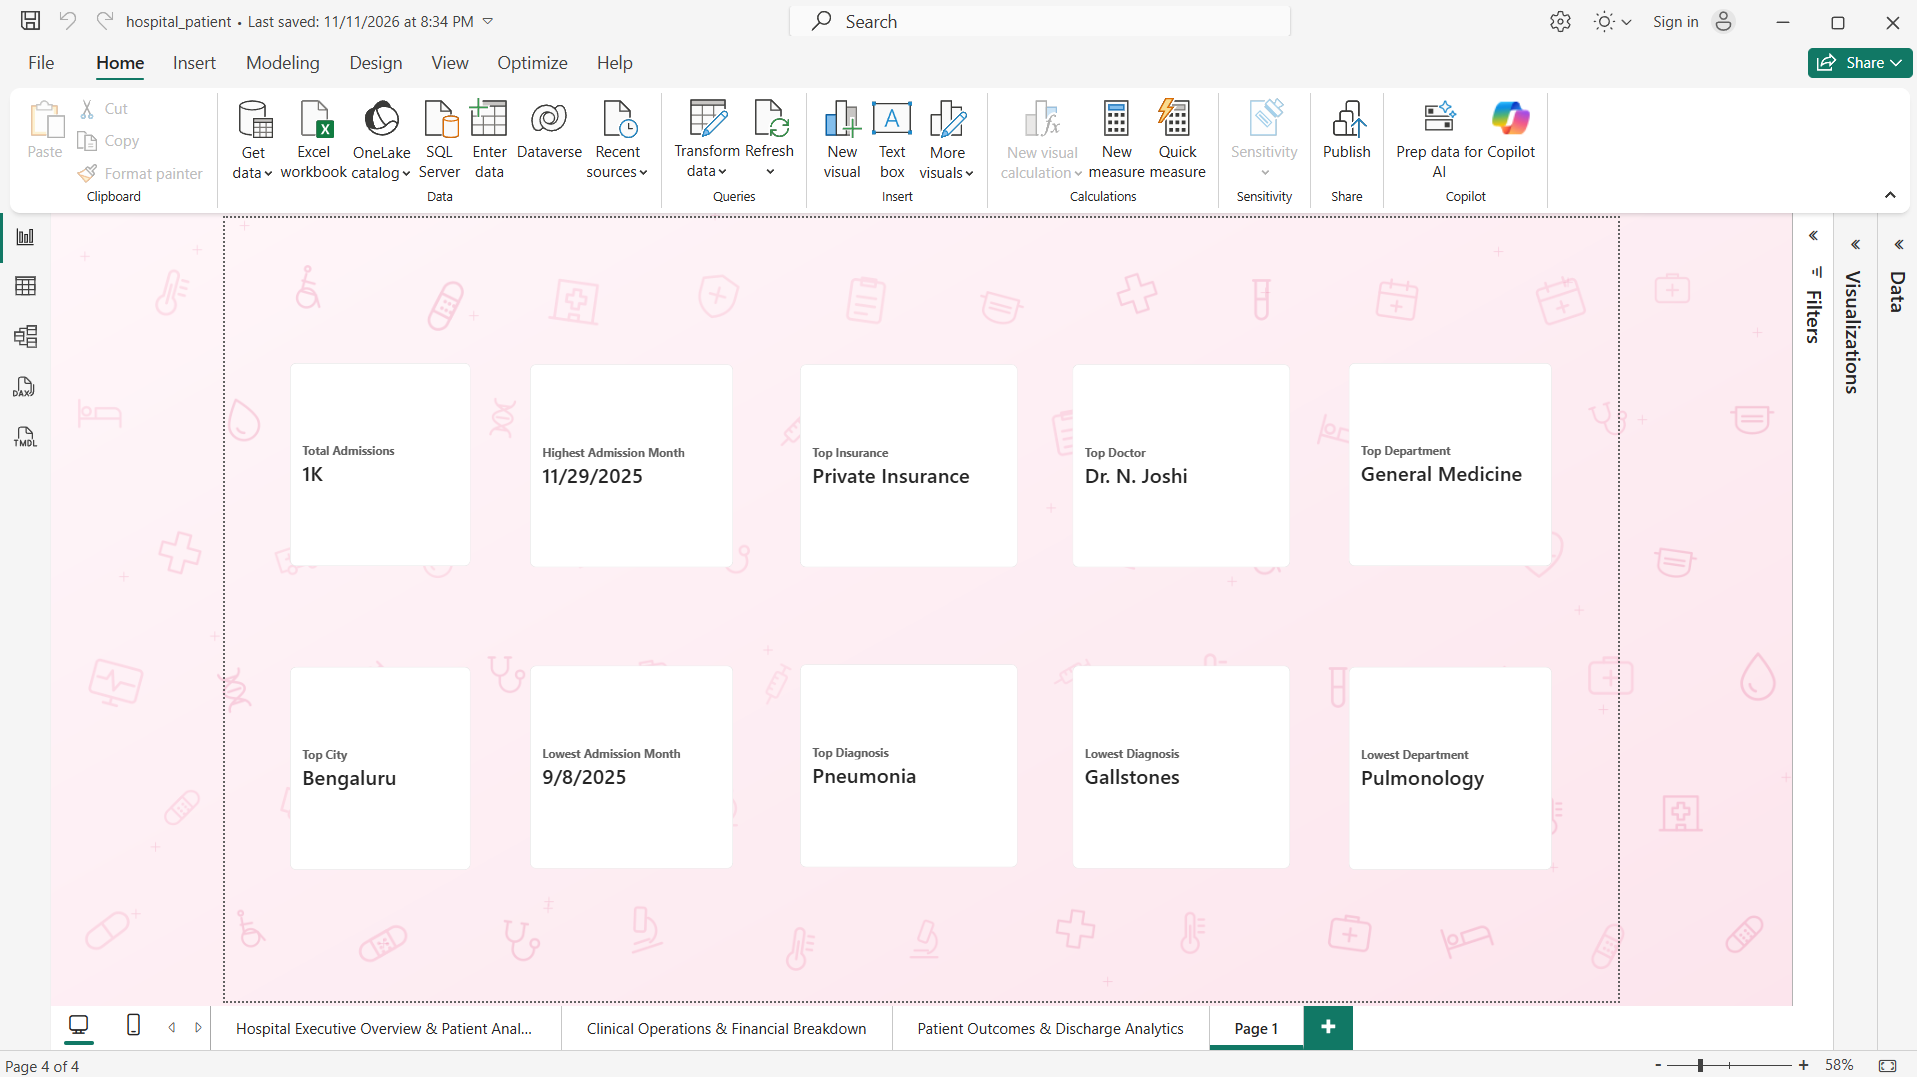

What the dashboard file says about the page in this screenshot:
{"tool":"powerbi","page":{"name":"Page 1","canvas":[1920,1080],"ordinal":3},"visuals":[{"type":"cardVisual","fields":{"Data":["Patient_Data.Total Admissions"]},"box":[89,200.6,249.4,280.8],"z":0},{"type":"cardVisual","fields":{"Data":["Patient_Data.Highest Admission Month"]},"box":[420.4,202.3,280,280],"z":1},{"type":"cardVisual","fields":{"Data":["Patient_Data.Lowest Admission Month"]},"box":[420.4,617.4,280,280],"z":2},{"type":"cardVisual","fields":{"Data":["Patient_Data.Top Department"]},"box":[1548.8,200.6,280,280],"z":3},{"type":"cardVisual","fields":{"Data":["Patient_Data.Top Diagnosis"]},"box":[791.9,615.7,300,280.8],"z":4},{"type":"cardVisual","fields":{"Data":["Patient_Data.Top City"]},"box":[89,619.2,249.4,280.8],"z":5},{"type":"cardVisual","fields":{"Data":["Patient_Data.Top Insurance"]},"box":[791.9,202.3,300,280.8],"z":6},{"type":"cardVisual","fields":{"Data":["Patient_Data.Top Doctor"]},"box":[1168.6,202.3,300,280.8],"z":7},{"type":"cardVisual","fields":{"Data":["Patient_Data.Lowest Department"]},"box":[1548.8,619.2,280.8,280.8],"z":8},{"type":"cardVisual","fields":{"Data":["Patient_Data.Lowest Diagnosis"]},"box":[1168.6,617.4,300,280.8],"z":9}]}

Visuals, with their boxes on the page's 1920x1080 design canvas (x1, y1, x2, y2). These are canvas units, not pixel positions in the 1917x1077 screenshot, which may show the page scaled, cropped or inside an application window:
cardVisual - Patient_Data.Total Admissions: (x1=89, y1=201, x2=338, y2=481)
cardVisual - Patient_Data.Highest Admission Month: (x1=420, y1=202, x2=700, y2=482)
cardVisual - Patient_Data.Lowest Admission Month: (x1=420, y1=617, x2=700, y2=897)
cardVisual - Patient_Data.Top Department: (x1=1549, y1=201, x2=1829, y2=481)
cardVisual - Patient_Data.Top Diagnosis: (x1=792, y1=616, x2=1092, y2=896)
cardVisual - Patient_Data.Top City: (x1=89, y1=619, x2=338, y2=900)
cardVisual - Patient_Data.Top Insurance: (x1=792, y1=202, x2=1092, y2=483)
cardVisual - Patient_Data.Top Doctor: (x1=1169, y1=202, x2=1469, y2=483)
cardVisual - Patient_Data.Lowest Department: (x1=1549, y1=619, x2=1830, y2=900)
cardVisual - Patient_Data.Lowest Diagnosis: (x1=1169, y1=617, x2=1469, y2=898)
